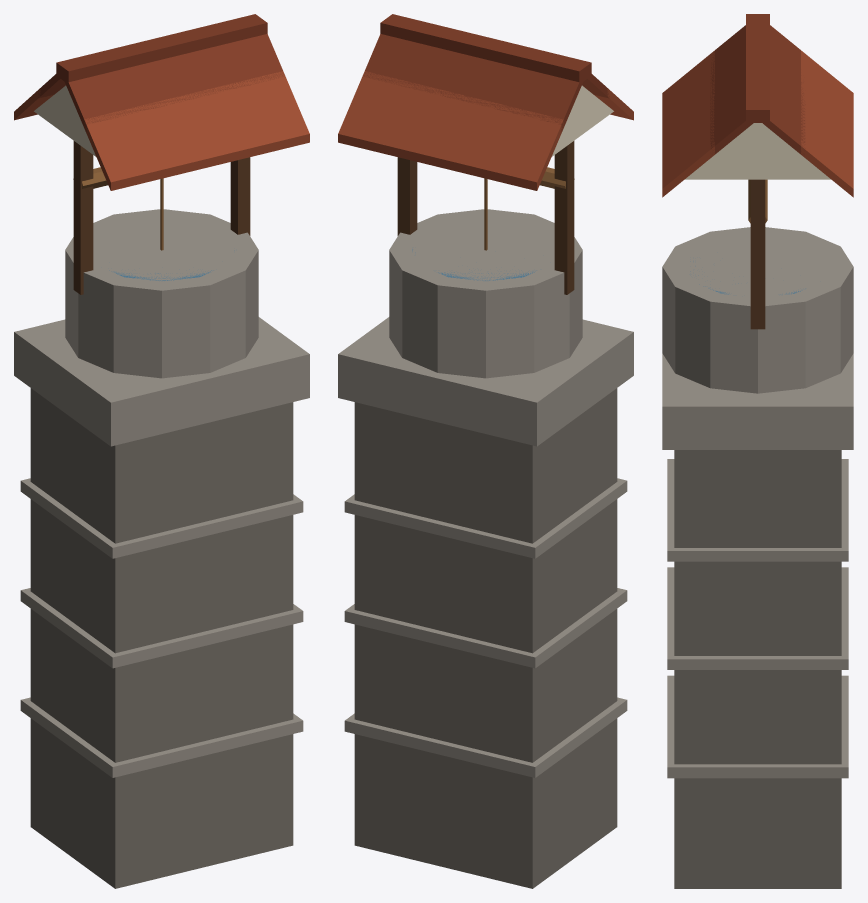
File: well.glb
3 renders of one model, left to right at view 1: azimuth 30°, elevation 25°; view 2: azimuth 150°, elevation 25°; view 3: azimuth 270°, elevation 25°, orthographic.
Visible parts, largest first — view 1: well; view 2: well; view 3: well.
Boxes of the visible parts, <box> form: well: <box>14,14,309,888</box>; well: <box>338,14,633,888</box>; well: <box>662,14,853,888</box>.
Bounding box in the file's own units: 1.9 × 7.24 × 1.6.
